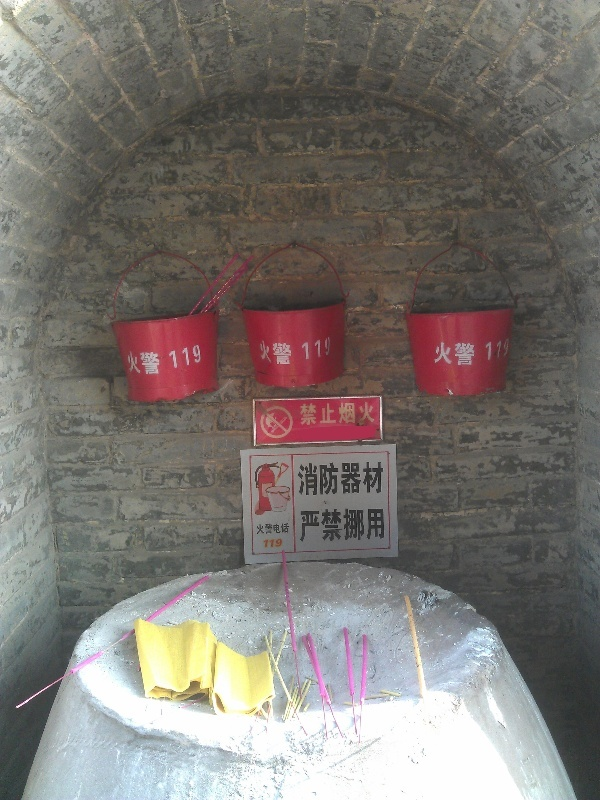text: (369, 508, 385, 544), (369, 462, 385, 496), (305, 508, 320, 544), (321, 508, 336, 544), (337, 508, 352, 544), (353, 508, 368, 544), (305, 462, 320, 496), (321, 462, 336, 496), (337, 462, 352, 496), (353, 462, 368, 496), (273, 339, 288, 366), (258, 339, 272, 366), (129, 351, 144, 376), (145, 351, 160, 376), (305, 401, 320, 426), (321, 401, 336, 426), (337, 401, 352, 426), (353, 401, 368, 426), (177, 345, 192, 370), (305, 337, 320, 362), (449, 341, 464, 366), (434, 341, 448, 366), (321, 337, 334, 362), (497, 338, 509, 362), (193, 345, 203, 370), (465, 341, 475, 366), (486, 338, 496, 362), (298, 462, 304, 496), (273, 523, 289, 535), (257, 523, 272, 535), (299, 508, 304, 544), (169, 345, 176, 370), (289, 339, 294, 366), (369, 401, 374, 426), (273, 539, 283, 548), (263, 539, 272, 548), (301, 401, 304, 426), (302, 337, 304, 362)
